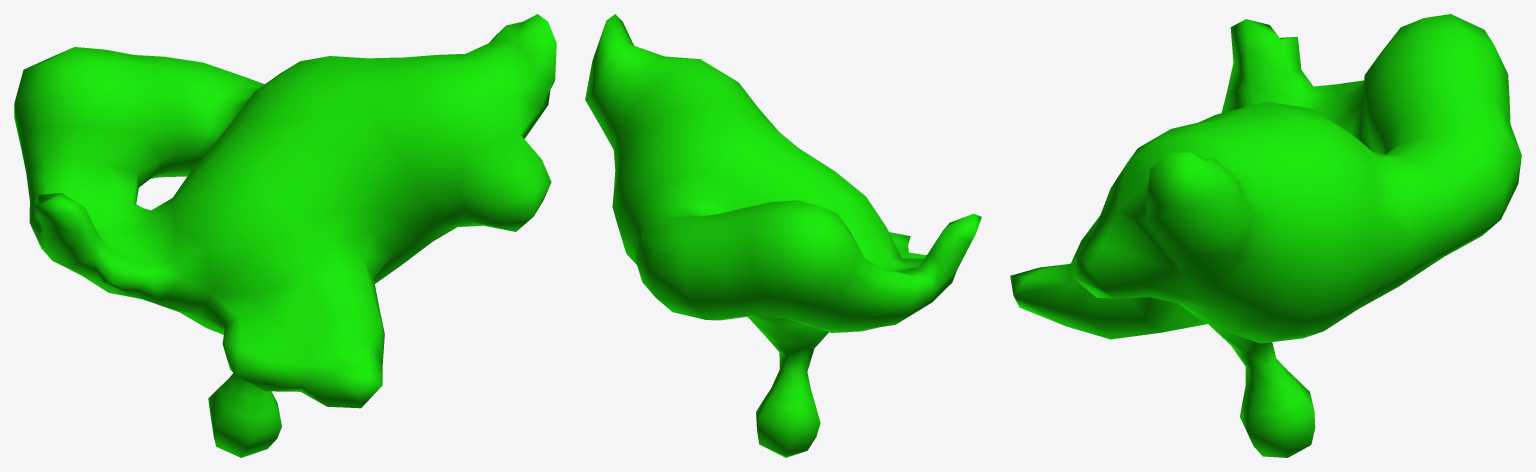
The model's file is p_lorenzo_hairgoop01.fbx.
The picture shows the model from 3 angles, left to right: view 1: azimuth 30°, elevation 25°; view 2: azimuth 150°, elevation 25°; view 3: azimuth 270°, elevation 25°; orthographic projection. The views are drawn at different scales.
Parts seen in each view (by area): view 1: p_lorenzo_hairgoop01; view 2: p_lorenzo_hairgoop01; view 3: p_lorenzo_hairgoop01.
Boxes of the visible parts, x1=… form: p_lorenzo_hairgoop01: x1=14, y1=14, x2=556, y2=457; p_lorenzo_hairgoop01: x1=585, y1=14, x2=981, y2=457; p_lorenzo_hairgoop01: x1=1010, y1=14, x2=1521, y2=457.
Bounding box in the file's own units: 1.09 × 0.8966 × 0.9594.
